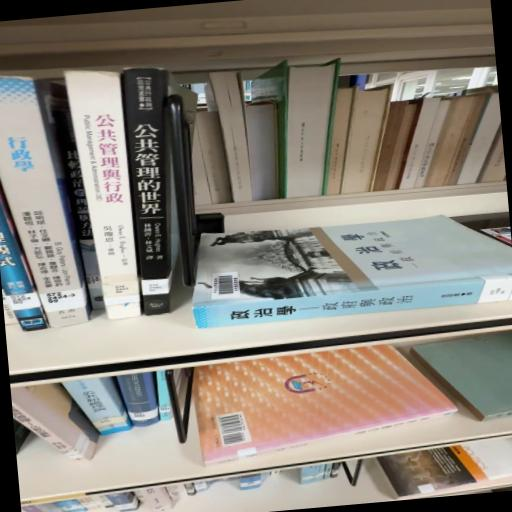flat: (193, 216, 512, 329), (194, 346, 458, 466)
